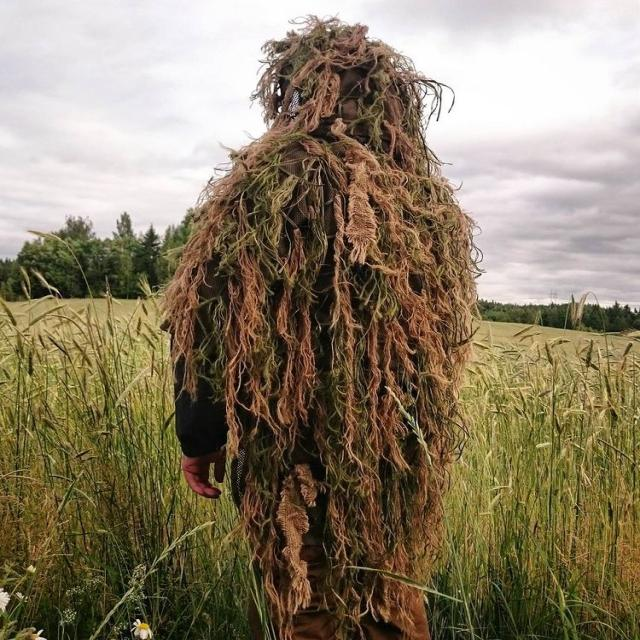human: (164, 23, 479, 639)
